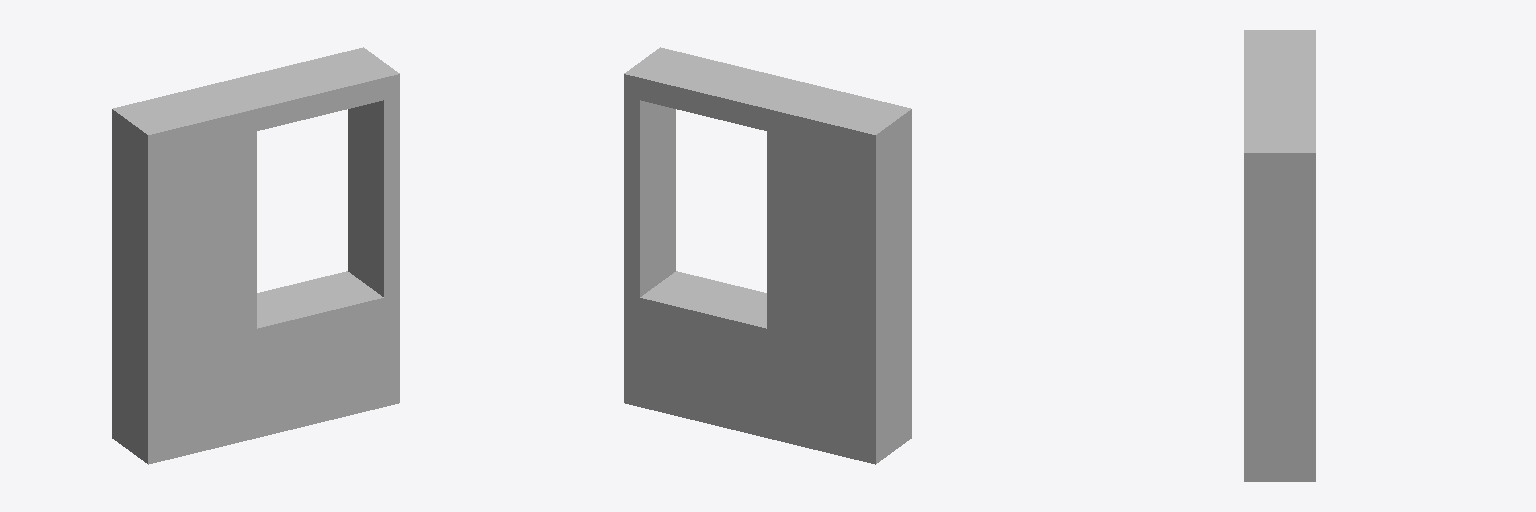
File: Muur met Raam Rechts.obj
The picture shows the model from 3 angles: view 1: azimuth 30°, elevation 25°; view 2: azimuth 150°, elevation 25°; view 3: azimuth 270°, elevation 25°; orthographic projection.
Visible parts, largest first — view 1: Muur_met_raam_Rechts; view 2: Muur_met_raam_Rechts; view 3: Muur_met_raam_Rechts.
Boxes of the visible parts, x1,y1,x2,y2 form: Muur_met_raam_Rechts: [112, 47, 399, 464]; Muur_met_raam_Rechts: [624, 47, 911, 464]; Muur_met_raam_Rechts: [1244, 30, 1315, 481].
Size of the model in its own units: 78.74 by 98.43 by 19.68.